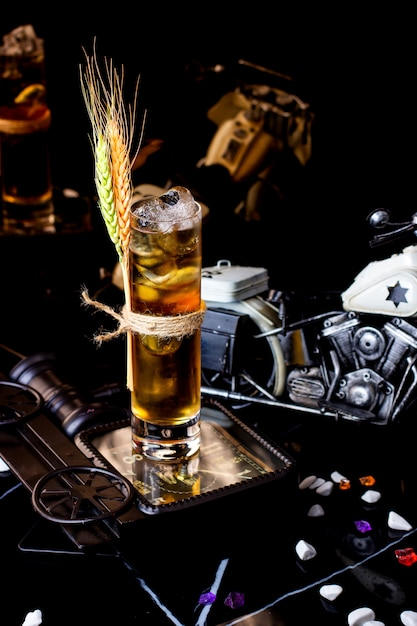alcohol: (118, 190, 206, 466)
